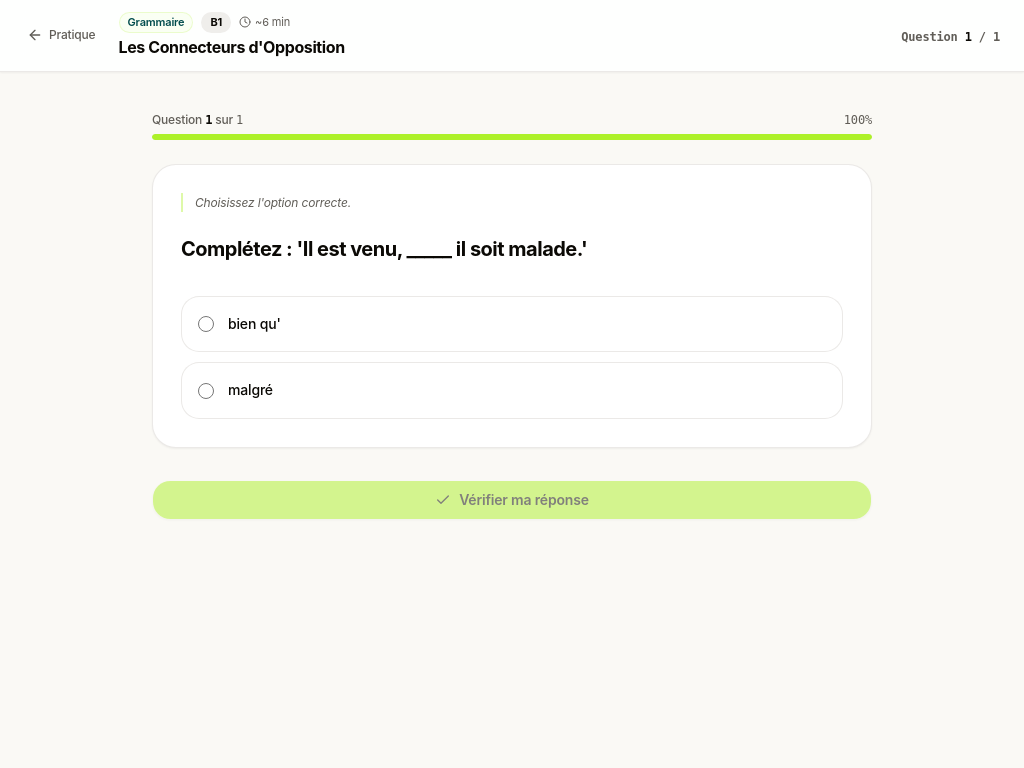
Student Exercise Player (/exercises/:id) › 9. Full Integration: ExercisePracticePage › handles incorrect answer and retry flow
expect the heading "Complétez : 'Il est venu, _____ il soit malade.'" is shown: met, box [181, 237, 587, 261]
# Select wrong answer
Step 1. Click the radio button labelled "malgré" → (206, 391), box [198, 383, 214, 399]
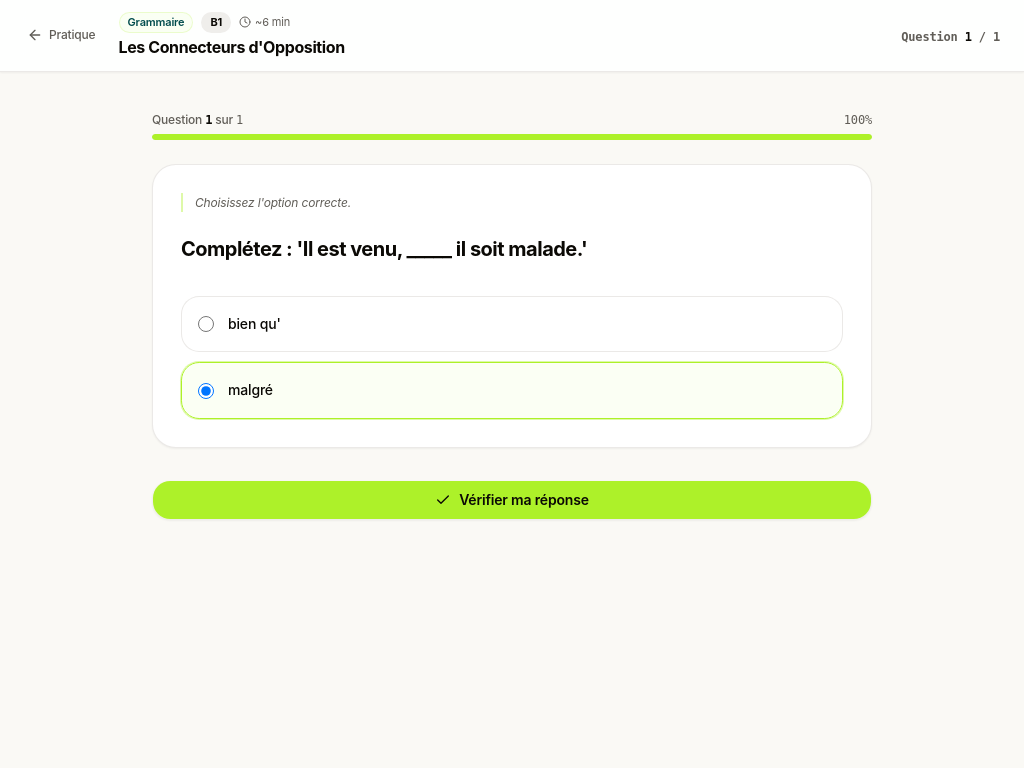
Step 2. Click the button "Vérifier ma réponse" → (512, 500), box [152, 480, 872, 520]
(page scrolled)
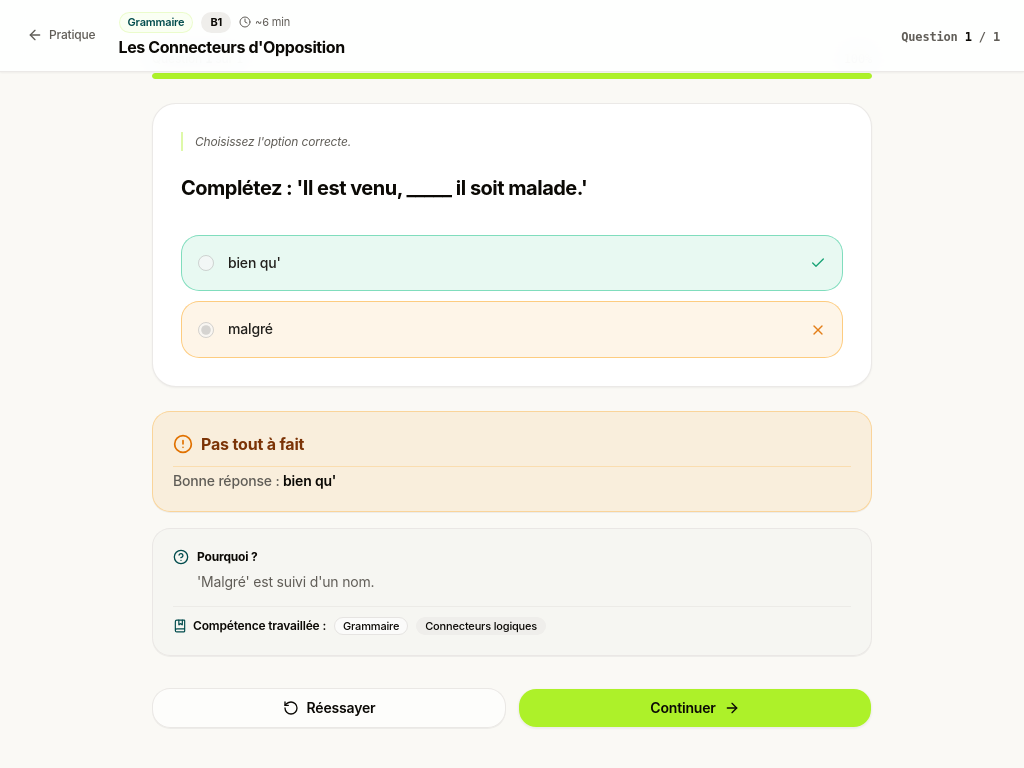
expect the text "Pas tout à fait" is shown: met, box [201, 432, 304, 456]
expect the text "Bonne réponse :" is shown: met, box [173, 472, 283, 489]
# Click Retry
Step 3. Click the button "Réessayer" → (329, 708), box [152, 688, 506, 728]
(page scrolled)
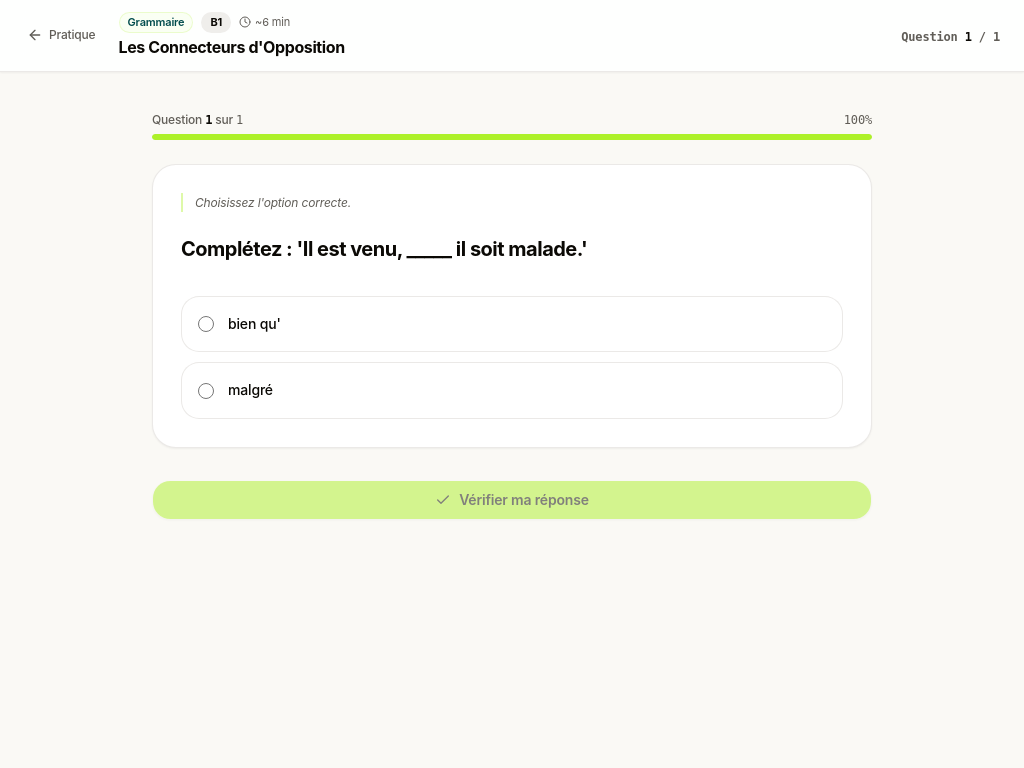
expect the text "Vérifier ma réponse" is shown: met, box [459, 490, 589, 510]
